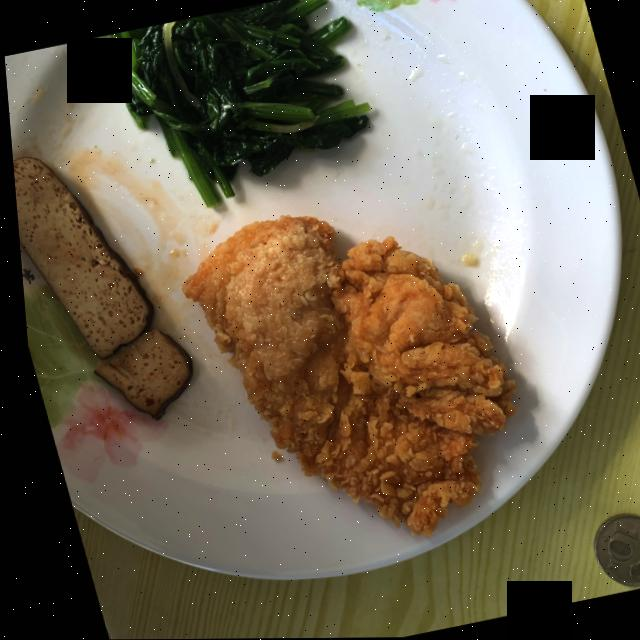coin: (583, 515, 640, 588)
firm tofu: (10, 157, 185, 419)
fried chicken cutlet: (178, 217, 507, 536)
mustard greens: (98, 0, 367, 207)
